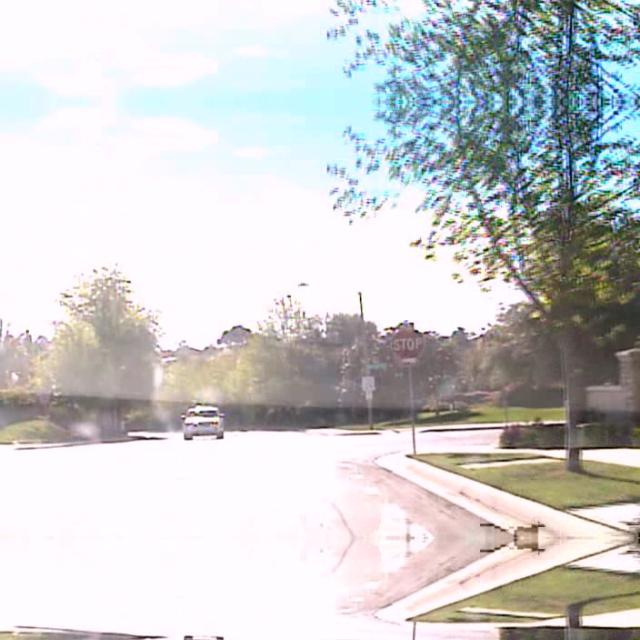stop: (388, 325, 424, 361)
